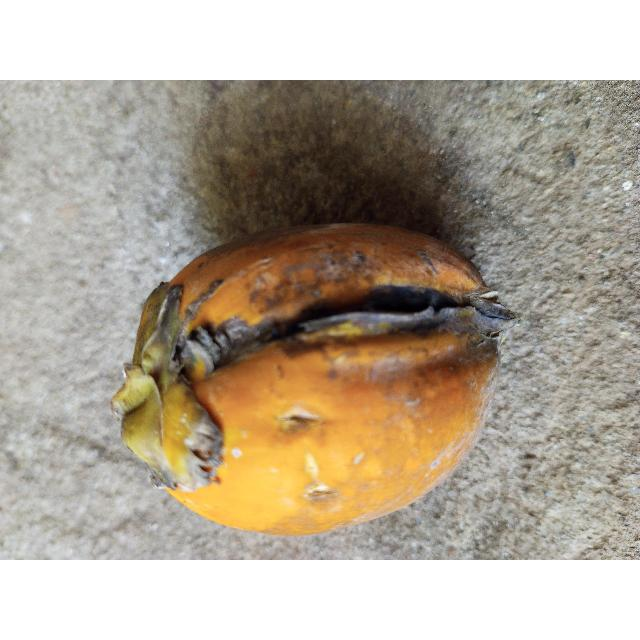damaged: (111, 224, 517, 535)
